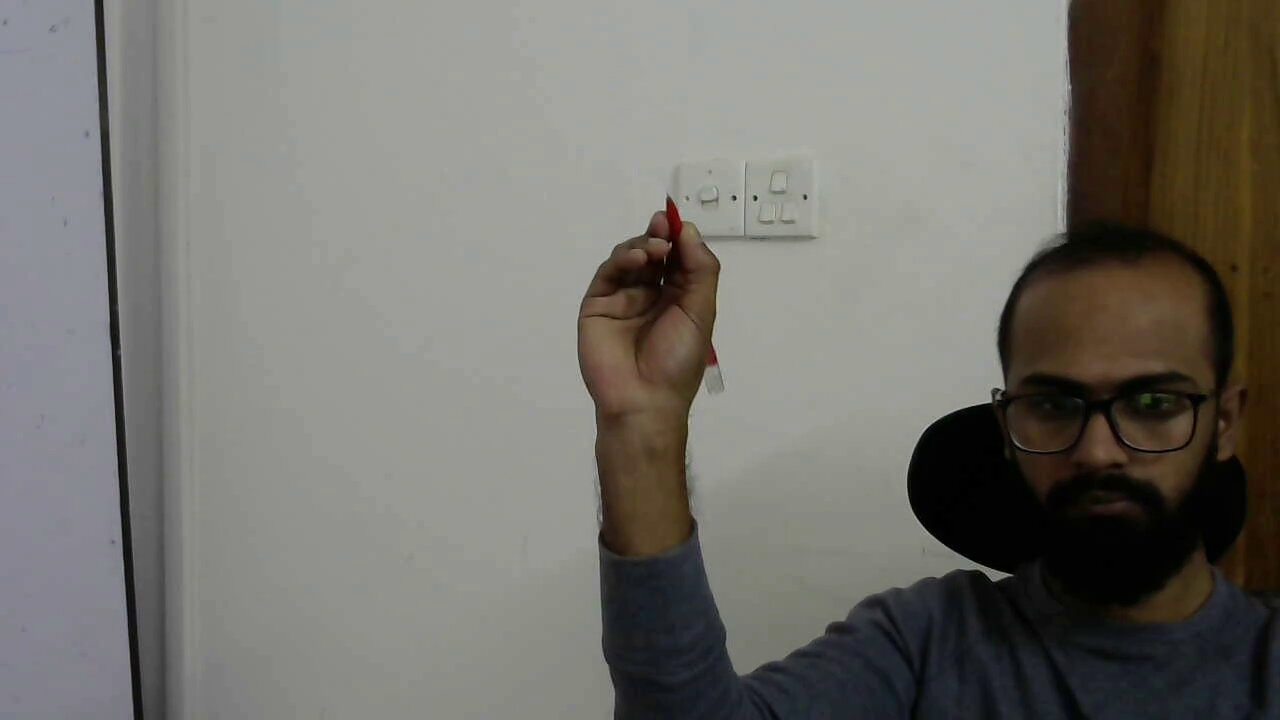pointer: (581, 207, 722, 361)
